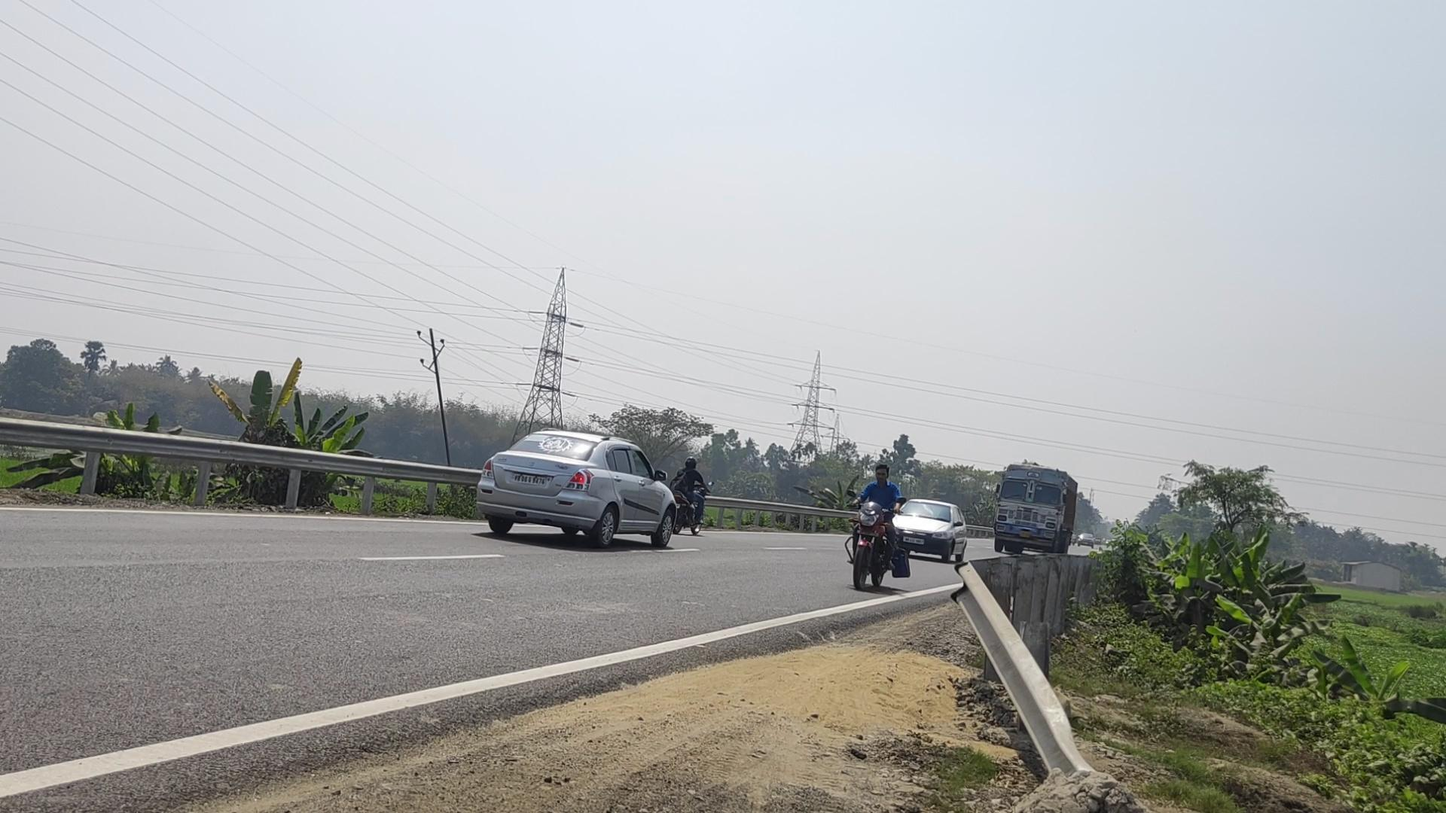bike: (844, 464, 911, 590), (670, 456, 712, 535)
car: (474, 428, 676, 548), (891, 498, 967, 564)
truck: (993, 463, 1078, 556)
